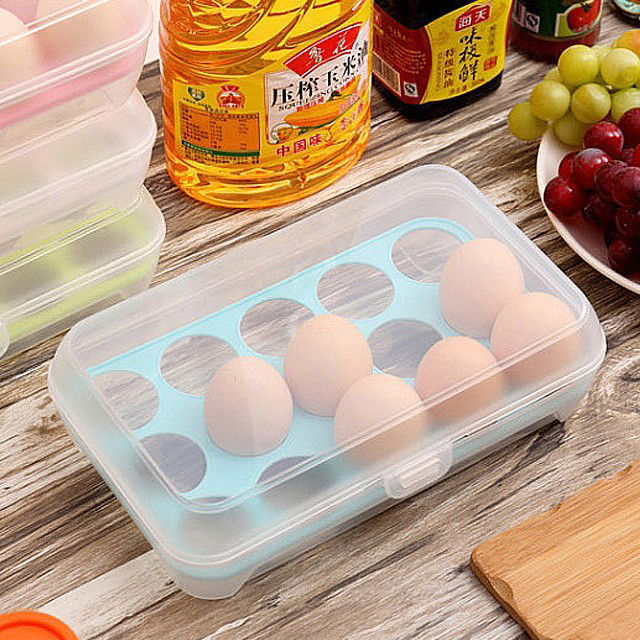egg: (200, 240, 580, 471)
